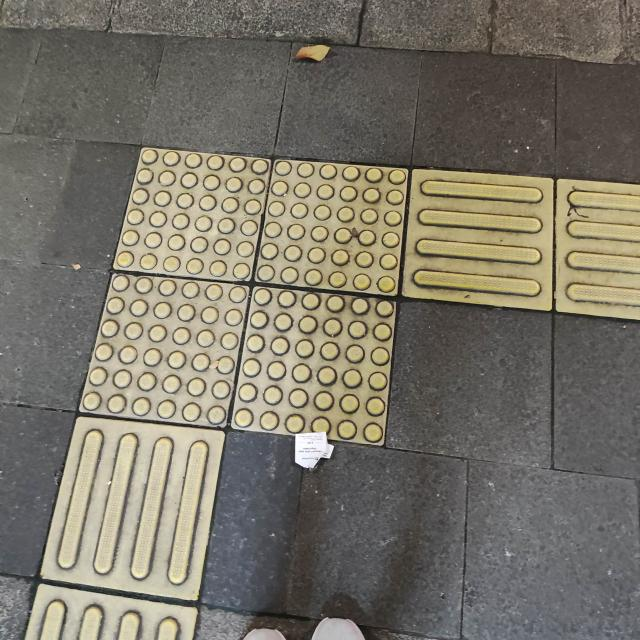kanan: (48, 111, 589, 479)
